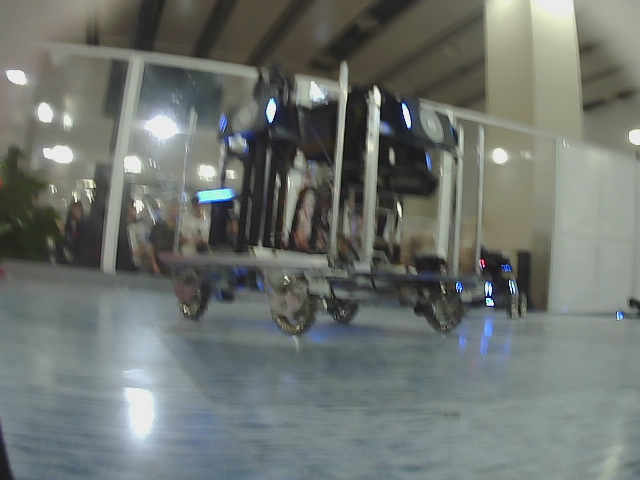lamp: (400, 102, 412, 129), (267, 97, 276, 124)
